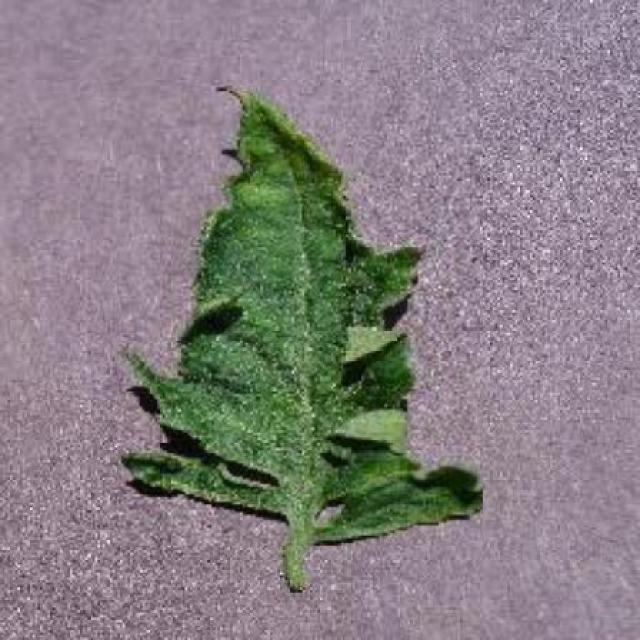Mosaic Virus: (118, 86, 482, 545)
